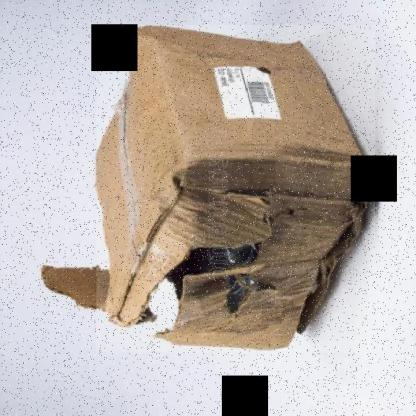box: (96, 25, 375, 353)
